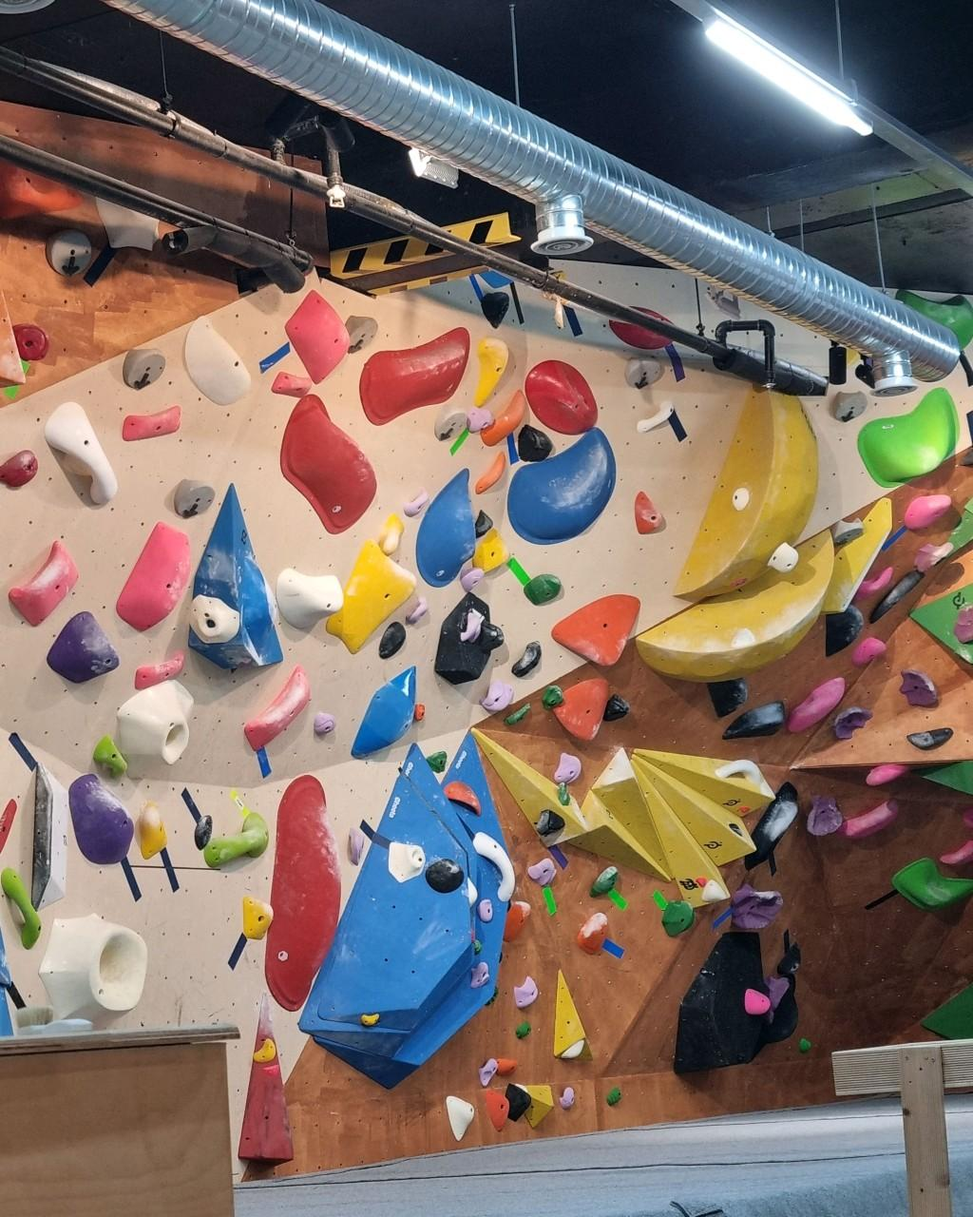hold: (266, 775, 340, 1011), (674, 933, 766, 1073), (281, 395, 375, 531), (507, 428, 616, 544), (39, 914, 147, 1022), (360, 327, 469, 425), (857, 388, 959, 487), (327, 541, 414, 653), (238, 993, 292, 1163), (822, 496, 891, 613), (116, 522, 190, 630), (46, 401, 117, 503), (416, 469, 475, 587), (434, 592, 505, 686), (117, 680, 193, 764), (552, 595, 639, 665), (9, 540, 78, 626), (285, 290, 349, 382), (69, 774, 133, 864), (244, 665, 310, 752), (352, 666, 414, 758), (185, 317, 249, 405), (525, 360, 597, 435), (31, 763, 67, 909), (48, 611, 119, 683), (745, 782, 801, 871), (896, 292, 972, 352), (276, 568, 342, 631), (892, 859, 972, 909), (202, 812, 268, 868), (552, 678, 609, 740), (0, 867, 40, 949), (787, 677, 845, 732), (610, 306, 677, 350), (553, 970, 586, 1058), (870, 570, 924, 622), (474, 834, 514, 901), (923, 985, 972, 1038), (481, 390, 525, 445), (723, 701, 785, 740), (474, 337, 508, 406), (190, 595, 238, 643), (731, 885, 782, 930), (47, 229, 91, 277), (842, 800, 897, 838), (715, 760, 773, 796), (122, 406, 180, 441), (825, 605, 863, 656), (123, 347, 165, 390), (135, 653, 183, 689), (472, 528, 510, 573), (172, 479, 215, 518), (905, 494, 951, 530), (137, 802, 165, 860), (707, 678, 747, 717), (0, 449, 37, 489), (388, 842, 425, 881), (807, 797, 843, 836), (475, 451, 507, 494), (521, 1085, 553, 1128), (900, 670, 938, 706), (93, 735, 125, 777), (13, 324, 49, 361), (856, 567, 892, 602), (948, 498, 972, 550), (517, 424, 552, 459), (426, 859, 463, 892), (834, 706, 871, 739), (243, 897, 272, 939), (447, 1096, 474, 1141), (914, 541, 953, 572), (578, 912, 607, 953), (444, 781, 480, 814), (662, 901, 695, 937), (525, 573, 562, 605), (830, 391, 868, 422), (635, 492, 663, 534), (626, 358, 664, 388), (480, 679, 513, 713), (434, 408, 468, 441), (637, 400, 673, 431), (346, 317, 377, 353), (503, 901, 530, 942), (378, 513, 404, 555), (765, 976, 789, 1020), (474, 618, 504, 653), (272, 372, 312, 398), (481, 291, 509, 328), (907, 727, 952, 750), (511, 643, 540, 677), (852, 637, 886, 666), (485, 1088, 508, 1130), (0, 798, 17, 854), (506, 1083, 531, 1121), (379, 622, 405, 658), (867, 764, 906, 786), (769, 543, 798, 572), (554, 752, 581, 783), (528, 857, 556, 886), (514, 976, 538, 1009), (941, 840, 972, 865), (535, 810, 563, 837), (590, 868, 617, 896), (954, 606, 972, 644), (461, 610, 483, 641), (603, 695, 629, 721), (404, 490, 429, 517), (744, 988, 769, 1015), (467, 408, 493, 433), (702, 879, 729, 903), (406, 597, 428, 625), (194, 815, 211, 850), (254, 1038, 277, 1063), (505, 703, 530, 725), (461, 568, 484, 591), (479, 1058, 497, 1087), (542, 685, 563, 708), (475, 510, 492, 538), (315, 711, 334, 736), (470, 961, 488, 986), (562, 1039, 584, 1058), (733, 487, 749, 510), (497, 1057, 517, 1075), (428, 751, 445, 772), (560, 1087, 574, 1110), (557, 784, 571, 805), (606, 1087, 620, 1106), (467, 879, 477, 905), (515, 1021, 530, 1038), (360, 1013, 379, 1026), (479, 900, 490, 921), (414, 702, 425, 721), (728, 824, 742, 837), (799, 1038, 811, 1053), (472, 938, 482, 955), (696, 878, 707, 888), (740, 807, 750, 813)
volume: (299, 733, 514, 1088), (674, 392, 818, 601), (637, 531, 834, 680), (188, 485, 282, 670), (629, 760, 731, 910), (570, 748, 675, 879), (632, 754, 754, 865), (473, 728, 586, 844), (634, 748, 773, 816), (910, 584, 972, 664), (922, 761, 972, 794)
